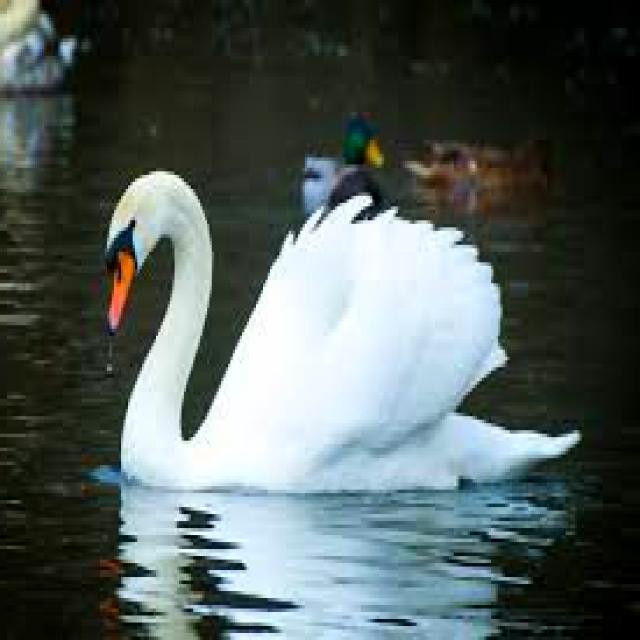swan: (107, 171, 579, 486)
